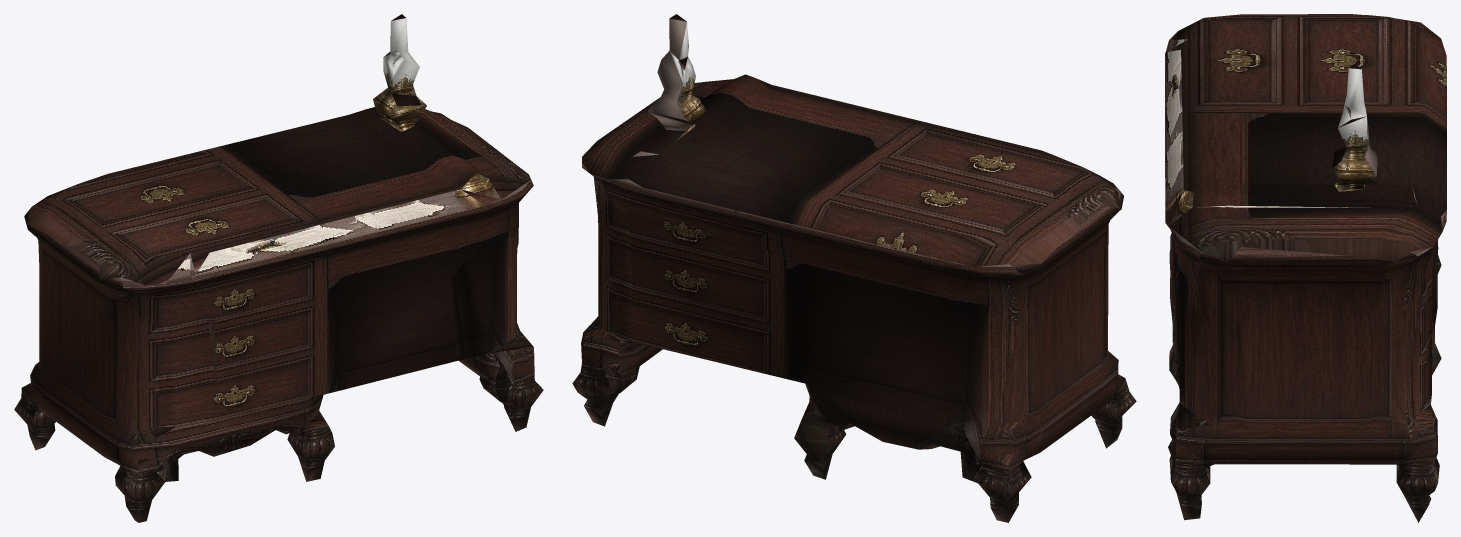
Rendered from desk_high.glb.
3 views of the same model, side by side, from view 1: azimuth 30°, elevation 25°; view 2: azimuth 150°, elevation 25°; view 3: azimuth 270°, elevation 25° (orthographic). The views are drawn at different scales.
Visible parts, largest first — view 1: desk_high; view 2: desk_high; view 3: desk_high.
Part boxes in pixels (box(x1,y1,x2,y2)): desk_high: box(14, 14, 543, 522); desk_high: box(572, 14, 1136, 522); desk_high: box(1165, 14, 1446, 522).
Bounding box in the file's own units: 1.39 × 1.14 × 0.6813.
Materials: 1 (1 with a texture image).
